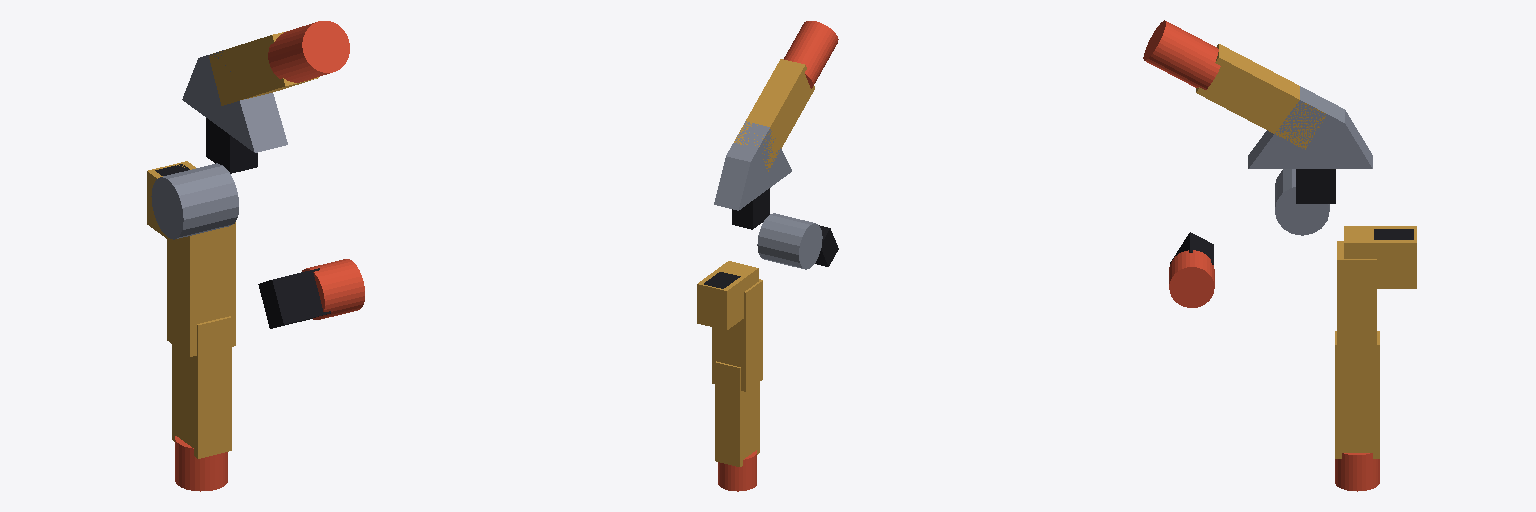
The robot description file, URDF, robot "g0019_c08":
<robot name="g0019_c08">
  <link name="palm">
    <visual name="palm_palm1">
      <origin xyz="0 0 0" rpy="0 0 0" />
      <geometry>
        <mesh filename="palm_palm1.obj" />
      </geometry>
      <material name="palm_palm1_mat">
        <color rgba="0.55 0.57 0.62 1" />
      </material>
    </visual>
    <collision>
      <origin xyz="0 0 0" rpy="0 0 0" />
      <geometry>
        <mesh filename="palm_palm1.obj" />
      </geometry>
    </collision>
    <visual name="palm_mount2">
      <origin xyz="0 0 0" rpy="0 0 0" />
      <geometry>
        <mesh filename="palm_mount2.obj" />
      </geometry>
      <material name="palm_mount2_mat">
        <color rgba="0.55 0.57 0.62 1" />
      </material>
    </visual>
    <collision>
      <origin xyz="0 0 0" rpy="0 0 0" />
      <geometry>
        <mesh filename="palm_mount2.obj" />
      </geometry>
    </collision>
    <visual name="palm_hinge3">
      <origin xyz="0 0.01 0.0325" rpy="-1.57079633 -6.123234e-17 1.57079633" />
      <geometry>
        <box size="0.029 0.034 0.02" />
      </geometry>
      <material name="palm_hinge3_mat">
        <color rgba="0.15 0.15 0.17 1" />
      </material>
    </visual>
    <collision>
      <origin xyz="0 0.01 0.0325" rpy="-1.57079633 -6.123234e-17 1.57079633" />
      <geometry>
        <box size="0.029 0.034 0.02" />
      </geometry>
    </collision>
    <visual name="palm_motor4">
      <origin xyz="-0.007 -0.08 -0.04" rpy="1.06057524e-16 -1.04719755 1.57079633" />
      <geometry>
        <box size="0.029 0.034 0.02" />
      </geometry>
      <material name="palm_motor4_mat">
        <color rgba="0.15 0.15 0.17 1" />
      </material>
    </visual>
    <collision>
      <origin xyz="-0.007 -0.08 -0.04" rpy="1.06057524e-16 -1.04719755 1.57079633" />
      <geometry>
        <box size="0.029 0.034 0.02" />
      </geometry>
    </collision>
    <visual name="palm_motor5">
      <origin xyz="-0.0045 0.0665 -0.0325" rpy="1.57079633 1.2246468e-16 -1.57079633" />
      <geometry>
        <box size="0.029 0.034 0.02" />
      </geometry>
      <material name="palm_motor5_mat">
        <color rgba="0.15 0.15 0.17 1" />
      </material>
    </visual>
    <collision>
      <origin xyz="-0.0045 0.0665 -0.0325" rpy="1.57079633 1.2246468e-16 -1.57079633" />
      <geometry>
        <box size="0.029 0.034 0.02" />
      </geometry>
    </collision>
    <inertial>
      <origin xyz="0 -0.00132727972 -0.0143690897" rpy="-1.57079633 0.114894247 -1.57079633" />
      <mass value="0.577964448" />
      <inertia ixx="0.000400747618" ixy="0" ixz="0" iyy="0.00121489823" iyz="0" izz="0.00156016127" />
    </inertial>
  </link>
  <link name="palm0">
    <visual name="palm0_palm1">
      <origin xyz="0 0 0" rpy="0 0 0" />
      <geometry>
        <mesh filename="palm0_palm1.obj" />
      </geometry>
      <material name="palm0_palm1_mat">
        <color rgba="0.55 0.57 0.62 1" />
      </material>
    </visual>
    <collision>
      <origin xyz="0 0 0" rpy="0 0 0" />
      <geometry>
        <mesh filename="palm0_palm1.obj" />
      </geometry>
    </collision>
    <visual name="palm0_motor2">
      <origin xyz="0 -0.00350480947 0.03625" rpy="-1.57079633 -1.04719755 1.57079633" />
      <geometry>
        <box size="0.029 0.034 0.02" />
      </geometry>
      <material name="palm0_motor2_mat">
        <color rgba="0.15 0.15 0.17 1" />
      </material>
    </visual>
    <collision>
      <origin xyz="0 -0.00350480947 0.03625" rpy="-1.57079633 -1.04719755 1.57079633" />
      <geometry>
        <box size="0.029 0.034 0.02" />
      </geometry>
    </collision>
    <inertial>
      <origin xyz="0 -0.00320725914 0.0245963291" rpy="-1.57079633 -0.0149651311 -1.57079633" />
      <mass value="0.123313968" />
      <inertia ixx="2.87734968e-05" ixy="0" ixz="0" iyy="5.27146854e-05" iyz="0" izz="6.96500413e-05" />
    </inertial>
  </link>
  <link name="f0_link0">
    <visual name="f0_link0_link1">
      <origin xyz="0.019 0 -6.9388939e-18" rpy="-1.57079633 -0 -1.57079633" />
      <geometry>
        <cylinder radius="0.0165" length="0.029" />
      </geometry>
      <material name="f0_link0_link1_mat">
        <color rgba="0.85 0.35 0.25 1" />
      </material>
    </visual>
    <collision>
      <origin xyz="0.019 0 -6.9388939e-18" rpy="-1.57079633 -0 -1.57079633" />
      <geometry>
        <cylinder radius="0.0165" length="0.029" />
      </geometry>
    </collision>
    <inertial>
      <origin xyz="0.019 0 0" rpy="0 0 0" />
      <mass value="0.0763354" />
      <inertia ixx="9.49466441e-06" ixy="0" ixz="0" iyy="2.24143997e-05" iyz="0" izz="2.24143997e-05" />
    </inertial>
  </link>
  <link name="f1_link0">
    <visual name="f1_link0_link1">
      <origin xyz="0.03375 0 0" rpy="0 7.03853194e-17 0" />
      <geometry>
        <box size="0.0915 0.024 0.033" />
      </geometry>
      <material name="f1_link0_link1_mat">
        <color rgba="0.80 0.62 0.30 1" />
      </material>
    </visual>
    <collision>
      <origin xyz="0.03375 0 0" rpy="0 7.03853194e-17 0" />
      <geometry>
        <box size="0.0915 0.024 0.033" />
      </geometry>
    </collision>
    <inertial>
      <origin xyz="0.03375 0 0" rpy="0 0 0" />
      <mass value="0.126819" />
      <inertia ixx="1.75961363e-05" ixy="0" ixz="0" iyy="9.99888553e-05" iyz="0" izz="9.45673431e-05" />
    </inertial>
  </link>
  <link name="f1_link1">
    <visual name="f1_link1_link1">
      <origin xyz="0.029 0 -6.9388939e-18" rpy="-1.57079633 -0 -1.57079633" />
      <geometry>
        <cylinder radius="0.0165" length="0.049" />
      </geometry>
      <material name="f1_link1_link1_mat">
        <color rgba="0.85 0.35 0.25 1" />
      </material>
    </visual>
    <collision>
      <origin xyz="0.029 0 -6.9388939e-18" rpy="-1.57079633 -0 -1.57079633" />
      <geometry>
        <cylinder radius="0.0165" length="0.049" />
      </geometry>
    </collision>
    <inertial>
      <origin xyz="0.029 0 0" rpy="0 0 0" />
      <mass value="0.106270851" />
      <inertia ixx="1.35696277e-05" ixy="0" ixz="0" iyy="5.30015704e-05" iyz="0" izz="5.30015704e-05" />
    </inertial>
  </link>
  <link name="f2_link0">
    <visual name="f2_link0_link1">
      <origin xyz="-0.00625 0 -0.0165" rpy="0 -0 0" />
      <geometry>
        <box size="0.0365 0.029 0.053" />
      </geometry>
      <material name="f2_link0_link1_mat">
        <color rgba="0.80 0.62 0.30 1" />
      </material>
    </visual>
    <collision>
      <origin xyz="-0.00625 0 -0.0165" rpy="0 -0 0" />
      <geometry>
        <box size="0.0365 0.029 0.053" />
      </geometry>
    </collision>
    <inertial>
      <origin xyz="-0.00625 0 -0.0165" rpy="0 0 0" />
      <mass value="0.098175875" />
      <inertia ixx="2.98618286e-05" ixy="0" ixz="0" iyy="3.38809035e-05" iyz="0" izz="1.778006e-05" />
    </inertial>
  </link>
  <link name="f2_link1">
    <visual name="f2_link1_link1">
      <origin xyz="0.03375 0 -6.9388939e-18" rpy="0 -0 0" />
      <geometry>
        <box size="0.0915 0.033 0.029" />
      </geometry>
      <material name="f2_link1_link1_mat">
        <color rgba="0.80 0.62 0.30 1" />
      </material>
    </visual>
    <collision>
      <origin xyz="0.03375 0 -6.9388939e-18" rpy="0 -0 0" />
      <geometry>
        <box size="0.0915 0.033 0.029" />
      </geometry>
    </collision>
    <inertial>
      <origin xyz="0.03375 0 0" rpy="0 0 0" />
      <mass value="0.153239625" />
      <inertia ixx="2.46460397e-05" ixy="0" ixz="0" iyy="0.000117652915" iyz="0" izz="0.000120819867" />
    </inertial>
  </link>
  <link name="f2_link2">
    <visual name="f2_link2_link1">
      <origin xyz="0.03375 0 0" rpy="0 -0 0" />
      <geometry>
        <box size="0.0915 0.024 0.033" />
      </geometry>
      <material name="f2_link2_link1_mat">
        <color rgba="0.80 0.62 0.30 1" />
      </material>
    </visual>
    <collision>
      <origin xyz="0.03375 0 0" rpy="0 -0 0" />
      <geometry>
        <box size="0.0915 0.024 0.033" />
      </geometry>
    </collision>
    <inertial>
      <origin xyz="0.03375 0 0" rpy="0 0 0" />
      <mass value="0.126819" />
      <inertia ixx="1.75961363e-05" ixy="0" ixz="0" iyy="9.99888553e-05" iyz="0" izz="9.45673431e-05" />
    </inertial>
  </link>
  <link name="f2_link3">
    <visual name="f2_link3_link1">
      <origin xyz="0.019 0 0" rpy="-1.57079633 -0 -1.57079633" />
      <geometry>
        <cylinder radius="0.0165" length="0.029" />
      </geometry>
      <material name="f2_link3_link1_mat">
        <color rgba="0.85 0.35 0.25 1" />
      </material>
    </visual>
    <collision>
      <origin xyz="0.019 0 0" rpy="-1.57079633 -0 -1.57079633" />
      <geometry>
        <cylinder radius="0.0165" length="0.029" />
      </geometry>
    </collision>
    <inertial>
      <origin xyz="0.019 0 0" rpy="0 0 0" />
      <mass value="0.0763354" />
      <inertia ixx="9.49466441e-06" ixy="0" ixz="0" iyy="2.24143997e-05" iyz="0" izz="2.24143997e-05" />
    </inertial>
  </link>
  <joint name="palm0_joint" type="revolute">
    <parent link="palm" />
    <child link="palm0" />
    <origin xyz="0 0.01 0.04" rpy="0 0 0" />
    <axis xyz="0 1 6.123234e-17" />
    <limit effort="0.5" lower="-0.523598776" upper="0.523598776" velocity="5" />
    <dynamics damping="0.0775033" friction="0" />
  </joint>
  <joint name="f0_j0" type="revolute">
    <parent link="palm" />
    <child link="f0_link0" />
    <origin xyz="0.0005 -0.08 -0.04" rpy="1.04719755 5.30287619e-17 -3.061617e-17" />
    <axis xyz="0 1 6.123234e-17" />
    <limit effort="0.5" lower="-0.523598776" upper="0.523598776" velocity="5" />
    <dynamics damping="0.0775033" friction="0" />
  </joint>
  <joint name="f1_j0" type="revolute">
    <parent link="palm0" />
    <child link="f1_link0" />
    <origin xyz="0 -0.01 0.04" rpy="-0 -0.523598776 -1.57079633" />
    <axis xyz="0 0 1" />
    <limit effort="0.5" lower="-0.523598776" upper="1.57079633" velocity="5" />
    <dynamics damping="0.0775033" friction="0" />
  </joint>
  <joint name="f1_j1" type="revolute">
    <parent link="f1_link0" />
    <child link="f1_link1" />
    <origin xyz="0.07 0 0" rpy="0 0 0" />
    <axis xyz="0 0 1" />
    <limit effort="0.5" lower="-0.523598776" upper="1.57079633" velocity="5" />
    <dynamics damping="0.0775033" friction="0" />
  </joint>
  <joint name="f2_j0" type="revolute">
    <parent link="palm" />
    <child link="f2_link0" />
    <origin xyz="-0.0045 0.04 -0.04" rpy="1.57079633 1.57079633 0" />
    <axis xyz="0 0 1" />
    <limit effort="0.5" lower="-0.523598776" upper="1.57079633" velocity="5" />
    <dynamics damping="0.0775033" friction="0" />
  </joint>
  <joint name="f2_j1" type="revolute">
    <parent link="f2_link0" />
    <child link="f2_link1" />
    <origin xyz="0 0 0" rpy="0 0 0" />
    <axis xyz="0 1 6.123234e-17" />
    <limit effort="0.5" lower="-0.523598776" upper="0.523598776" velocity="5" />
    <dynamics damping="0.0775033" friction="0" />
  </joint>
  <joint name="f2_j2" type="revolute">
    <parent link="f2_link1" />
    <child link="f2_link2" />
    <origin xyz="0.07 0 0" rpy="0 0 0" />
    <axis xyz="0 0 1" />
    <limit effort="0.5" lower="-0.523598776" upper="1.57079633" velocity="5" />
    <dynamics damping="0.0775033" friction="0" />
  </joint>
  <joint name="f2_j3" type="revolute">
    <parent link="f2_link2" />
    <child link="f2_link3" />
    <origin xyz="0.07 0 0" rpy="0 0 0" />
    <axis xyz="0 0 1" />
    <limit effort="0.5" lower="-0.523598776" upper="1.57079633" velocity="5" />
    <dynamics damping="0.0775033" friction="0" />
  </joint>
</robot>

--- What the picture shows (computed from the rendered views, not written in the file) ---
The picture shows the robot from 3 angles, left to right: view 1: azimuth 30°, elevation 25°; view 2: azimuth 150°, elevation 25°; view 3: azimuth 270°, elevation 25°; orthographic projection.
Model g0019_c08 with 9 links and 8 joints (8 revolute), rooted at palm, posed all joints at 0.
Links seen in each view (by area): view 1: palm, f2_link1, f2_link2, palm0, f1_link1, f1_link0, f0_link0, f2_link3, f2_link0; view 2: palm, f2_link2, palm0, f1_link0, f2_link1, f2_link0, f1_link1, f2_link3; view 3: palm0, f1_link0, f2_link1, palm, f2_link2, f1_link1, f2_link0, f0_link0, f2_link3.
Link boxes in pixels (x1,y1,x2,y2): palm: (151, 118, 330, 328); f2_link1: (167, 222, 235, 356); f2_link2: (172, 316, 231, 458); palm0: (182, 50, 287, 152); f1_link1: (268, 21, 349, 82); f1_link0: (209, 31, 318, 105); f0_link0: (302, 259, 364, 319); f2_link3: (175, 436, 227, 491); f2_link0: (147, 161, 195, 238); palm: (704, 188, 838, 288); f2_link2: (715, 361, 759, 466); palm0: (714, 121, 791, 210); f1_link0: (734, 59, 814, 171); f2_link1: (712, 279, 762, 391); f2_link0: (697, 261, 758, 330); f1_link1: (784, 21, 838, 88); f2_link3: (718, 450, 756, 491); palm0: (1248, 86, 1372, 168); f1_link0: (1196, 44, 1325, 149); f2_link1: (1337, 241, 1376, 373); palm: (1170, 169, 1413, 264); f2_link2: (1335, 331, 1379, 458); f1_link1: (1143, 20, 1220, 89); f2_link0: (1344, 226, 1416, 288); f0_link0: (1169, 250, 1214, 307); f2_link3: (1335, 453, 1379, 491).
Size in the robot's own frame: 0.086 by 0.1982 by 0.3695 metres.
2 mesh visuals loaded from 3 distinct referenced files (2 OBJ); not drawn: 1 (reference not matched to a file when rendering).
